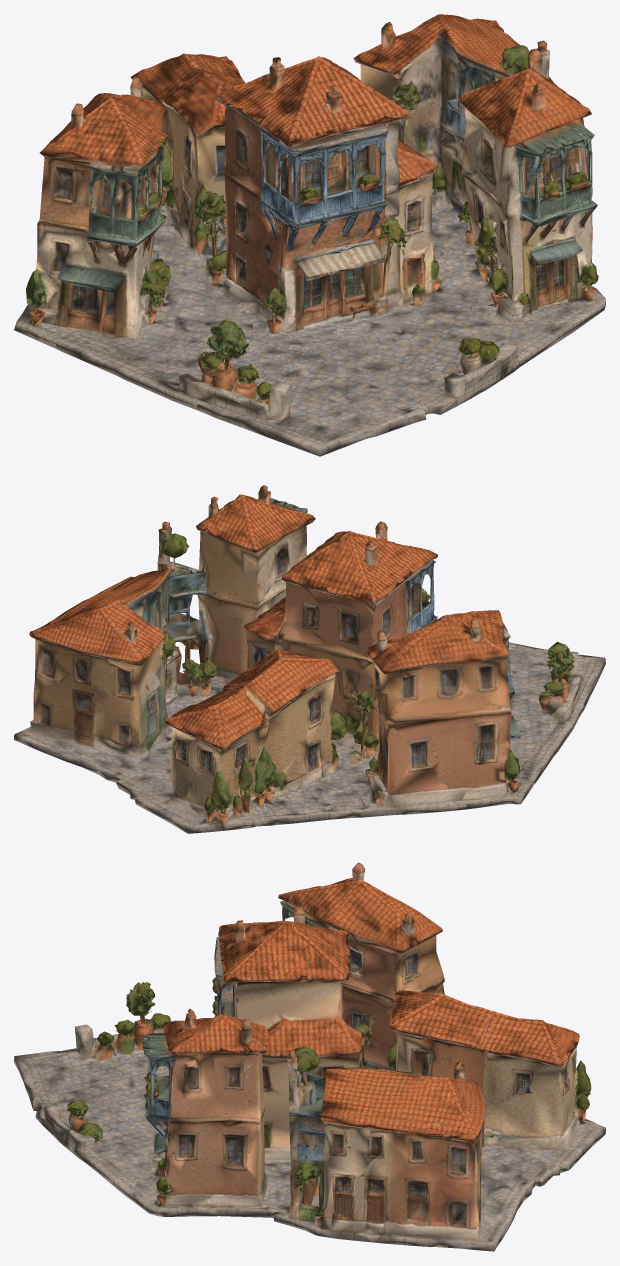
Rendered from m_tb_courtyard.glb.
3 renders of one model, top to bottom at view 1: azimuth 30°, elevation 25°; view 2: azimuth 150°, elevation 25°; view 3: azimuth 270°, elevation 25°, orthographic. The views are drawn at different scales.
Bounding box in the file's own units: 0.9229 × 0.3889 × 0.9993.
1 material, 1 textured.
